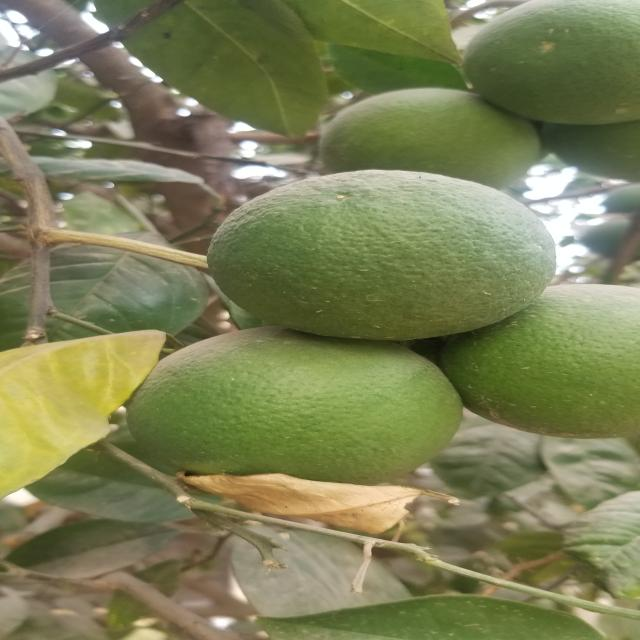Unripe: (193, 164, 572, 364), (124, 330, 477, 503), (431, 5, 640, 124), (480, 286, 640, 441)
